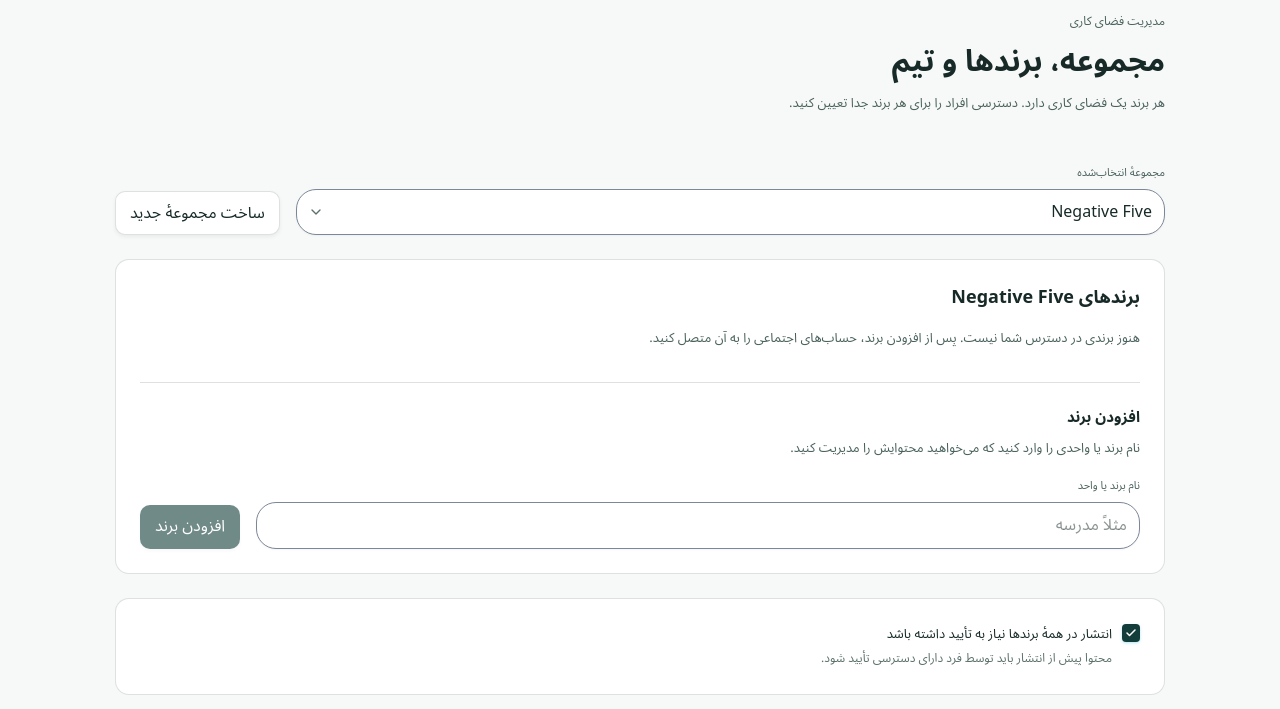
it: brand creation relies on server contact defaults
The image size is (1280, 709).
Expected: the heading "برندهای Negative Five" is shown, [951,278,1140,316]
In the field labelled "نام برند یا واحد": (698, 525) [257,503,1139,548], type "School"
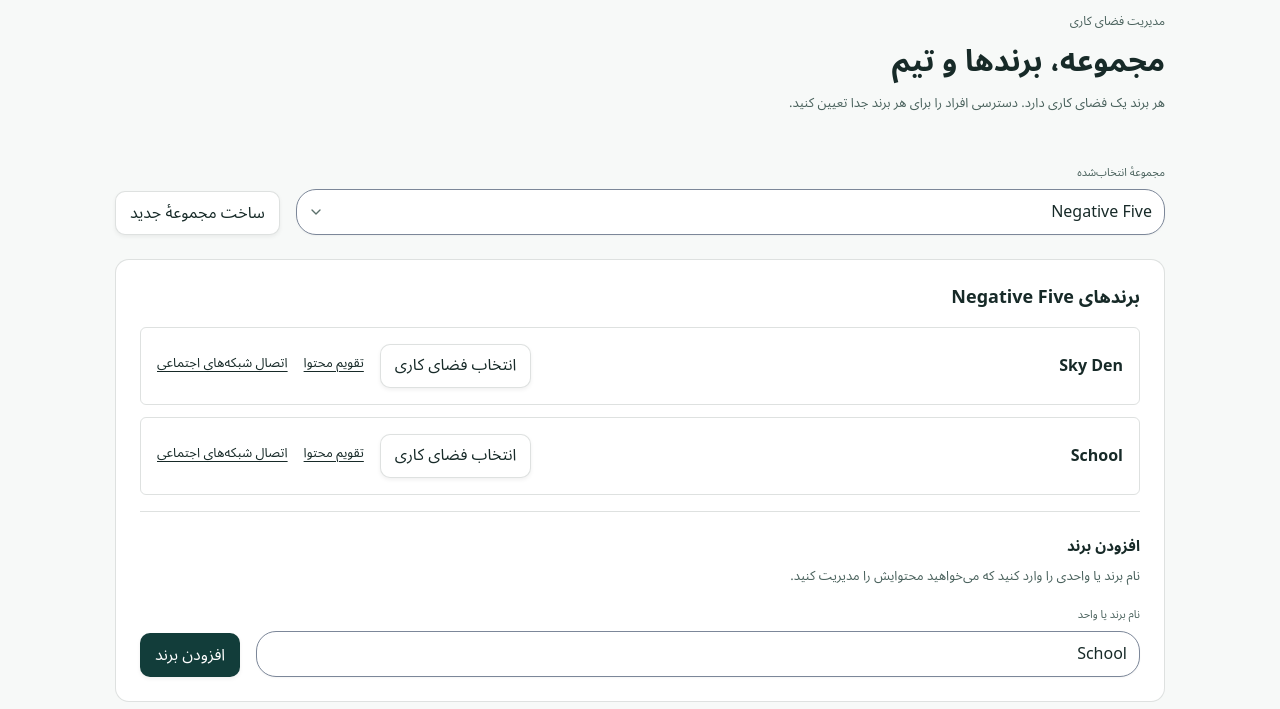
Click the button "افزودن برند": (190, 655) [140,633,240,677]
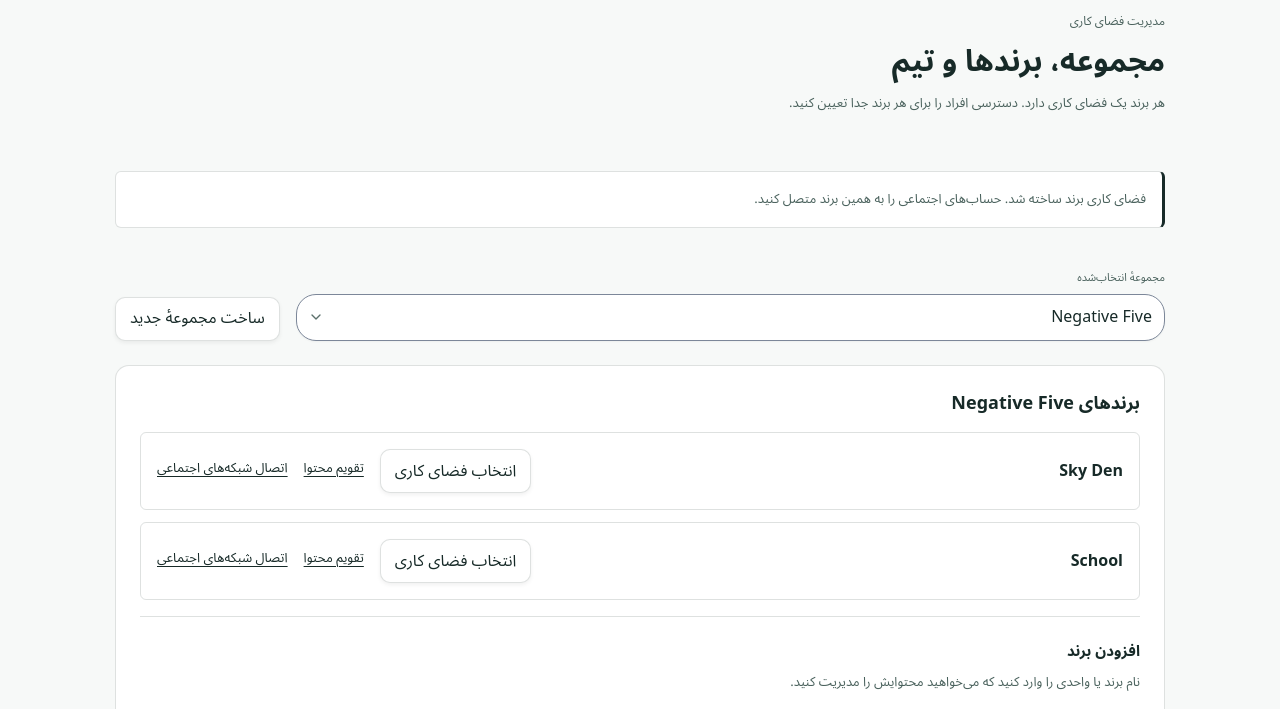
Now the message shows "فضای کاری برند ساخته شد", box [754,185,1146,213]
